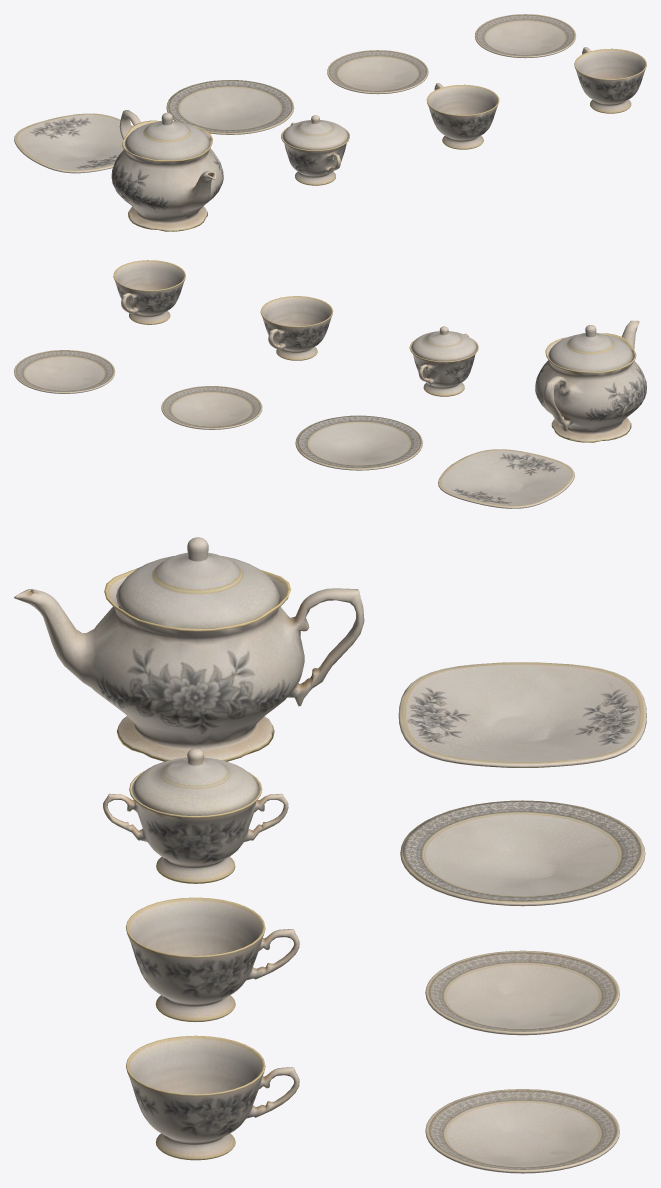
Rendered from tea_set_01.glb.
3 renders of one model, top to bottom at view 1: azimuth 30°, elevation 25°; view 2: azimuth 150°, elevation 25°; view 3: azimuth 270°, elevation 25°, orthographic. The views are drawn at different scales.
Parts seen in each view (by area): view 1: tea_set_01_teapot_01, tea_set_01_plate_large_circular_03, tea_set_01_plate_large_square_01, tea_set_01_cup_small_01, tea_set_01_cup_small_02, tea_set_01_saucer_circular_04, tea_set_01_saucer_circular_03, tea_set_01_teapot_01_lid, tea_set_01_sugar_cup_01, tea_set_01_sugar_cup_01_lid; view 2: tea_set_01_teapot_01, tea_set_01_plate_large_square_01, tea_set_01_plate_large_circular_03, tea_set_01_cup_small_02, tea_set_01_cup_small_01, tea_set_01_saucer_circular_04, tea_set_01_saucer_circular_03, tea_set_01_teapot_01_lid, tea_set_01_sugar_cup_01, tea_set_01_sugar_cup_01_lid; view 3: tea_set_01_teapot_01, tea_set_01_plate_large_square_01, tea_set_01_plate_large_circular_03, tea_set_01_cup_small_01, tea_set_01_cup_small_02, tea_set_01_saucer_circular_03, tea_set_01_saucer_circular_04, tea_set_01_teapot_01_lid, tea_set_01_sugar_cup_01, tea_set_01_sugar_cup_01_lid.
Part boxes in pixels (x1,y1,x2,y2): tea_set_01_teapot_01: (111,110,223,231); tea_set_01_plate_large_circular_03: (166,80,294,134); tea_set_01_plate_large_square_01: (14,113,133,173); tea_set_01_cup_small_01: (426,83,499,149); tea_set_01_cup_small_02: (574,47,646,113); tea_set_01_saucer_circular_04: (327,50,428,94); tea_set_01_saucer_circular_03: (474,14,575,58); tea_set_01_teapot_01_lid: (124,112,209,160); tea_set_01_sugar_cup_01: (281,122,349,185); tea_set_01_sugar_cup_01_lid: (282,115,348,150); tea_set_01_teapot_01: (535,320,646,442); tea_set_01_plate_large_square_01: (438,449,574,508); tea_set_01_plate_large_circular_03: (295,415,422,470); tea_set_01_cup_small_02: (113,260,185,324); tea_set_01_cup_small_01: (260,296,332,360); tea_set_01_saucer_circular_04: (161,386,262,429); tea_set_01_saucer_circular_03: (14,350,115,393); tea_set_01_teapot_01_lid: (548,325,633,371); tea_set_01_sugar_cup_01: (409,333,478,396); tea_set_01_sugar_cup_01_lid: (411,326,477,361); tea_set_01_teapot_01: (14,568,364,761); tea_set_01_plate_large_square_01: (398,662,646,767); tea_set_01_plate_large_circular_03: (400,800,645,906); tea_set_01_cup_small_01: (126,897,299,1022); tea_set_01_cup_small_02: (126,1035,299,1160); tea_set_01_saucer_circular_03: (425,1089,619,1173); tea_set_01_saucer_circular_04: (425,950,619,1035); tea_set_01_teapot_01_lid: (116,537,279,628); tea_set_01_sugar_cup_01: (103,771,288,883); tea_set_01_sugar_cup_01_lid: (131,748,259,816).
Size of the model in its own units: 0.9183 by 0.165 by 0.4838.
Materials: 1 (1 with a texture image).
